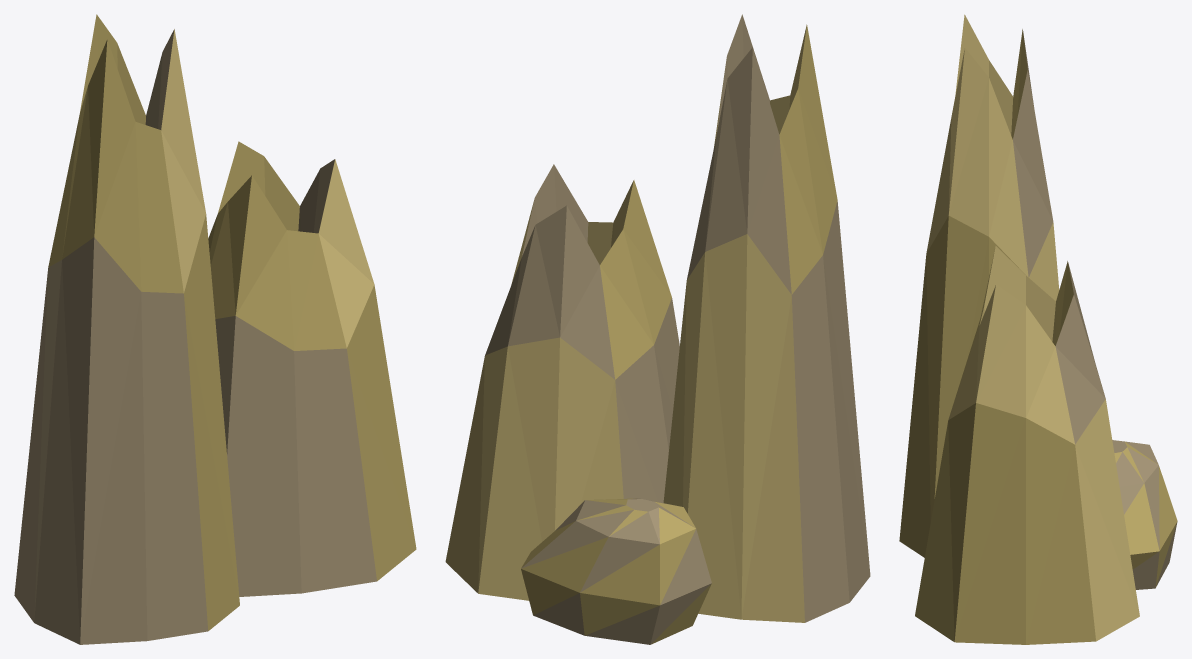
The model's file is AE_Volcano_SulphurChimney.fbx.
3 renders of one model, left to right at view 1: azimuth 30°, elevation 25°; view 2: azimuth 150°, elevation 25°; view 3: azimuth 270°, elevation 25°, orthographic. The views are drawn at different scales.
Visible parts, largest first — view 1: AE_Volcano_SulphurChimney; view 2: AE_Volcano_SulphurChimney; view 3: AE_Volcano_SulphurChimney.
Boxes of the visible parts, x1=… form: AE_Volcano_SulphurChimney: x1=14, y1=14, x2=416, y2=644; AE_Volcano_SulphurChimney: x1=445, y1=14, x2=870, y2=644; AE_Volcano_SulphurChimney: x1=899, y1=14, x2=1177, y2=644.
Bounding box in the file's own units: 0.9924 × 1.49 × 0.7521.
